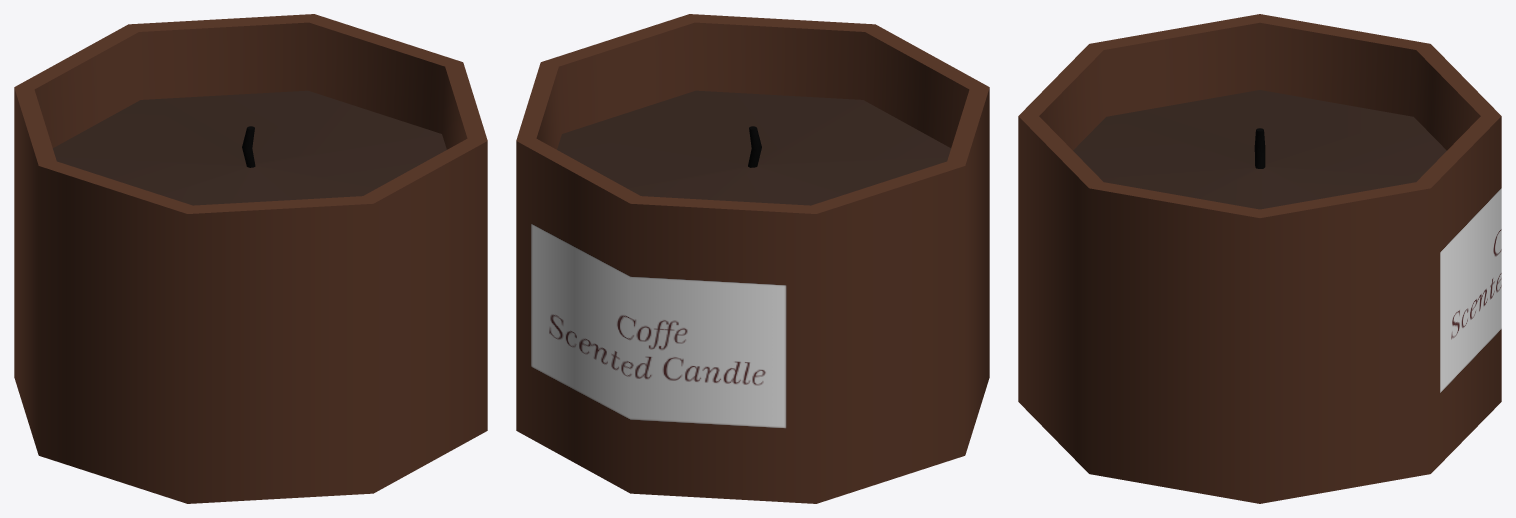
The model's file is furniture_decor_210011.glb.
The picture shows the model from 3 angles, left to right: view 1: azimuth 30°, elevation 25°; view 2: azimuth 150°, elevation 25°; view 3: azimuth 270°, elevation 25°; orthographic projection.
Parts seen in each view (by area): view 1: furniture_decor_210011; view 2: furniture_decor_210011; view 3: furniture_decor_210011.
Boxes of the visible parts, x1=… form: furniture_decor_210011: x1=14, y1=14, x2=487, y2=503; furniture_decor_210011: x1=516, y1=14, x2=989, y2=503; furniture_decor_210011: x1=1018, y1=14, x2=1501, y2=503.
Bounding box in the file's own units: 0.1295 × 0.0845 × 0.1295.
Materials: 1 (1 with a texture image).
